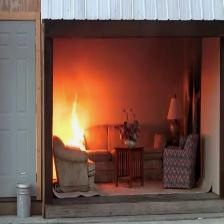fire: (52, 89, 93, 150)
